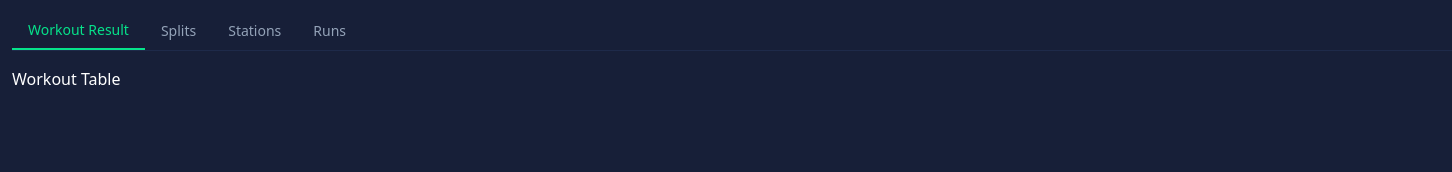
Test: ResultTabs › switches to stations content when Stations tab is clicked
Click the button "Stations".
click(255, 31)  # box [212,12,297,50]
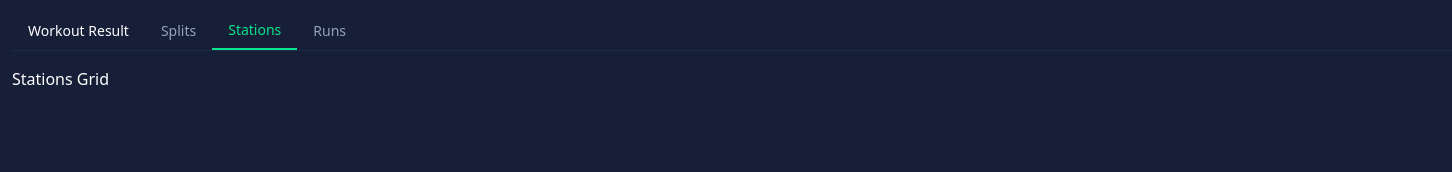
Expected: the text "Stations Grid" is shown, [12,68,109,90]
Expected: the text "Workout Table" is gone
